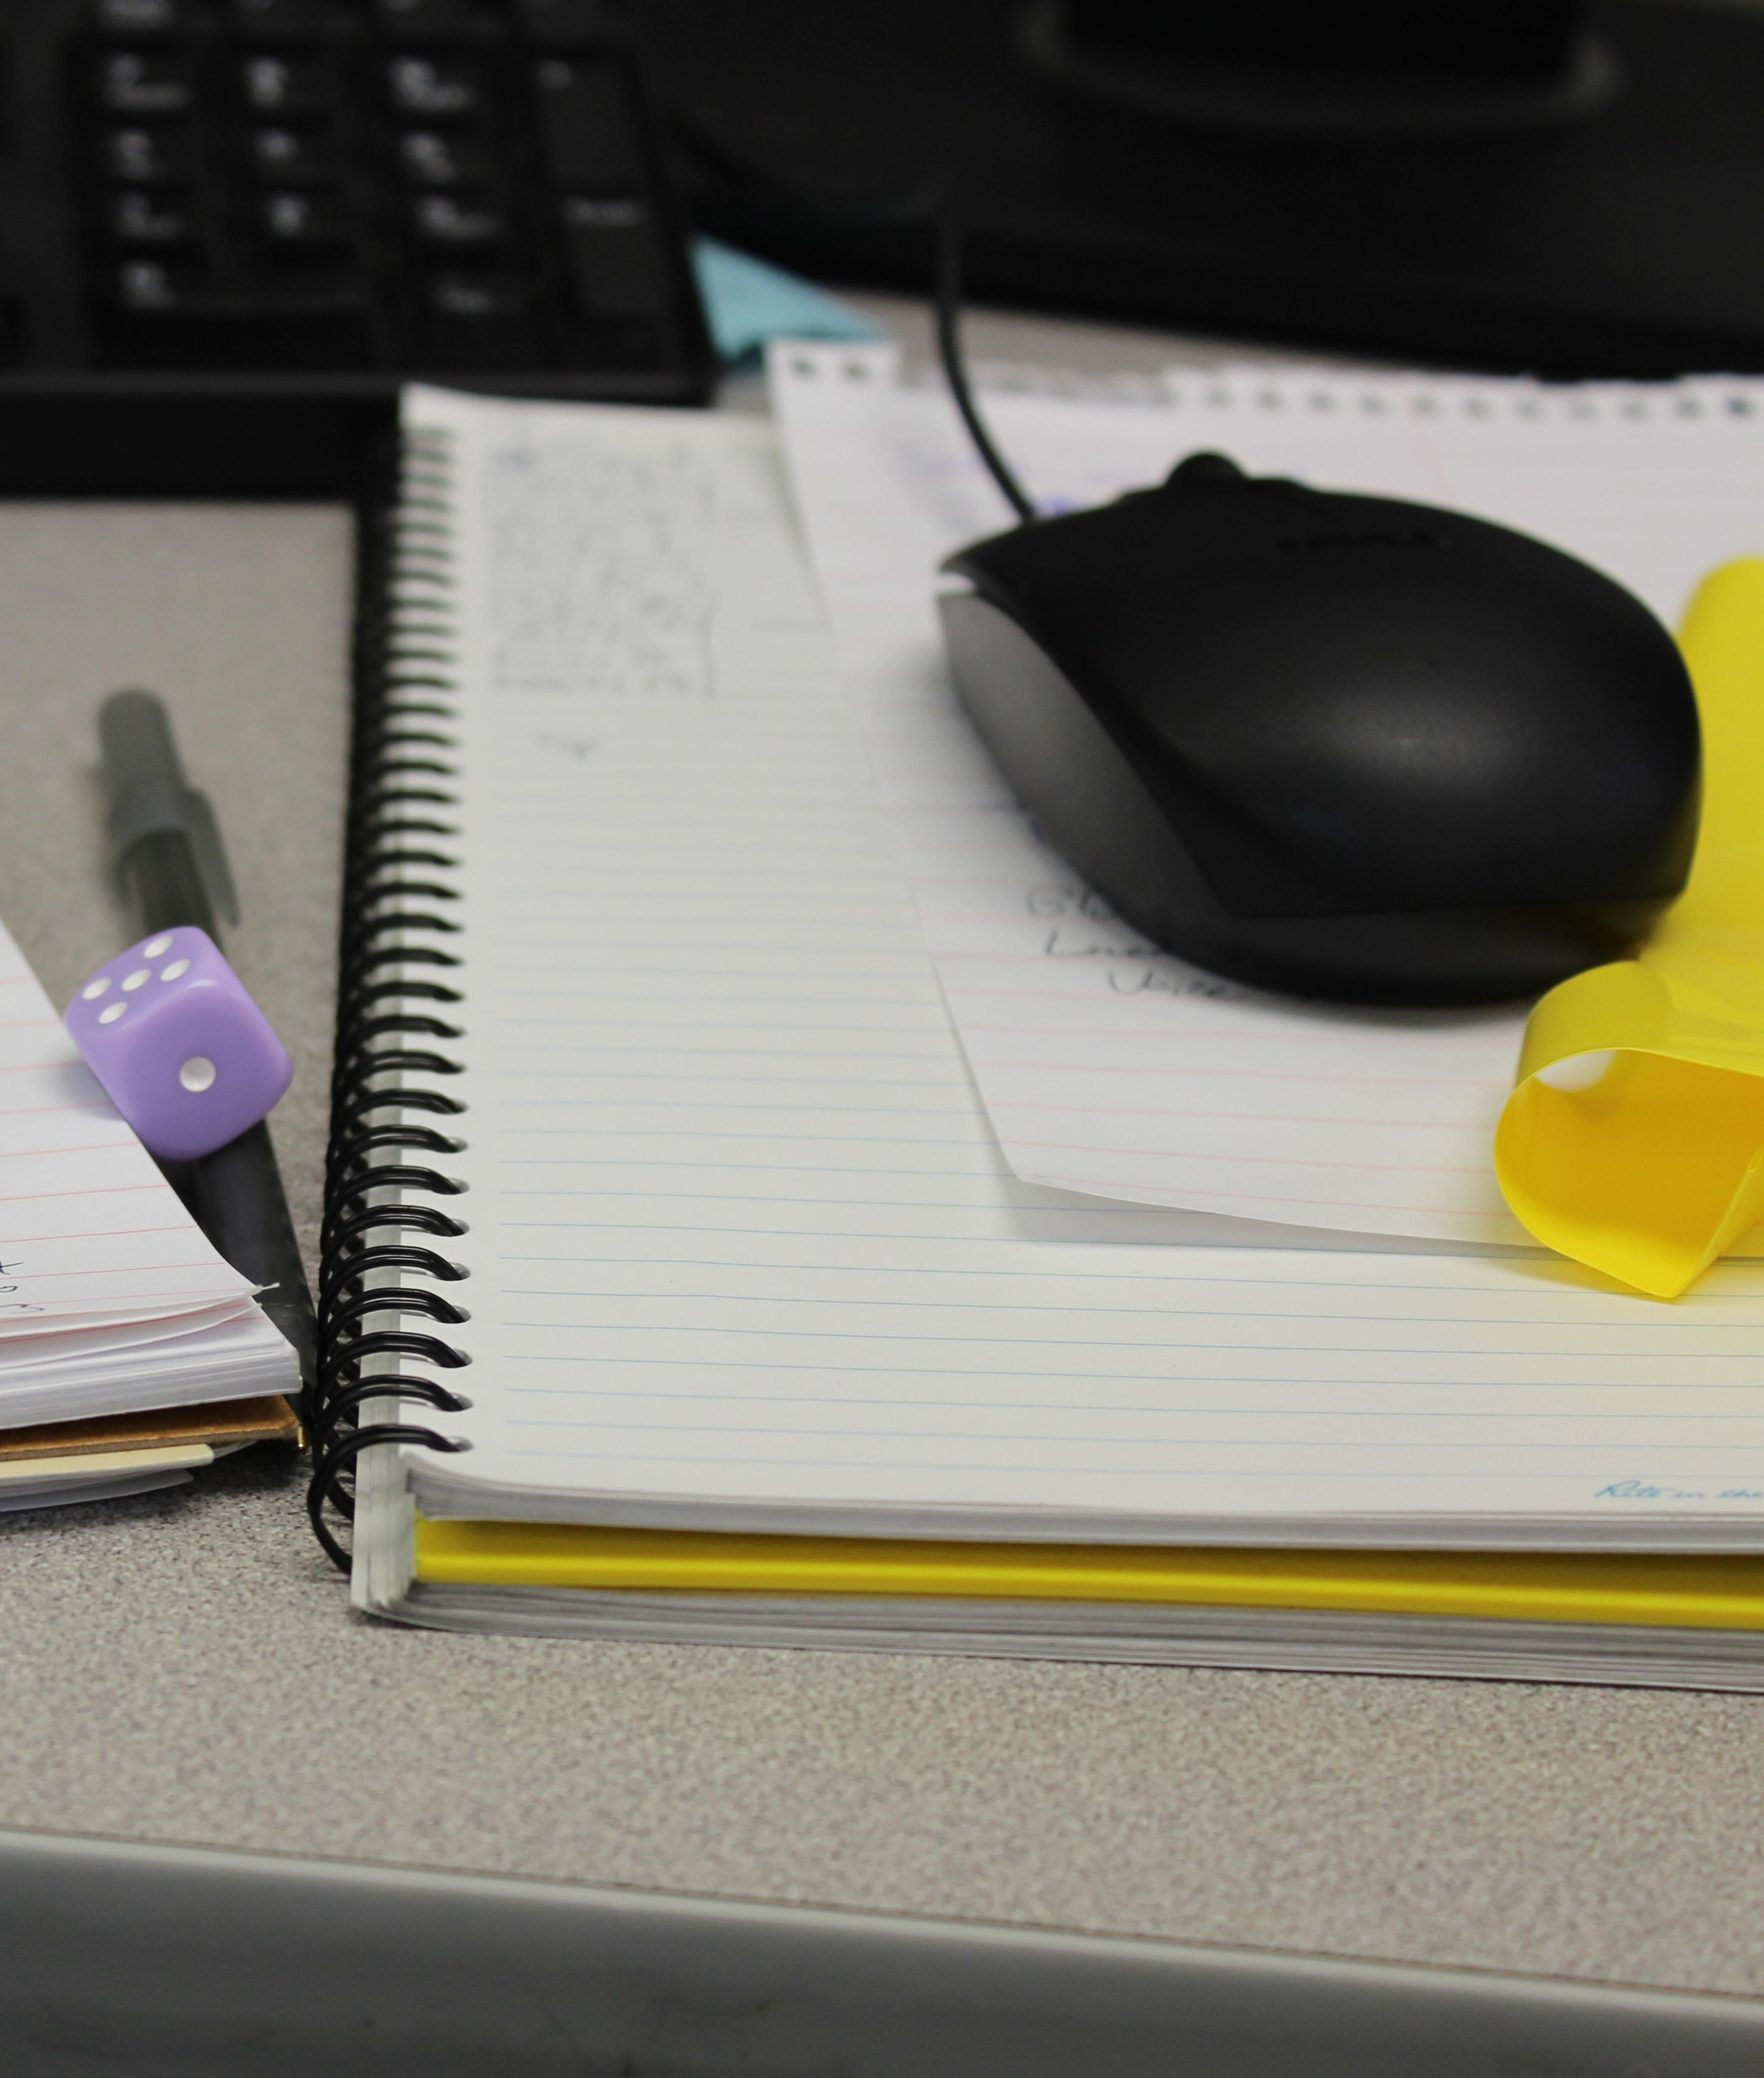lavenderDie: (35, 897, 329, 1193)
